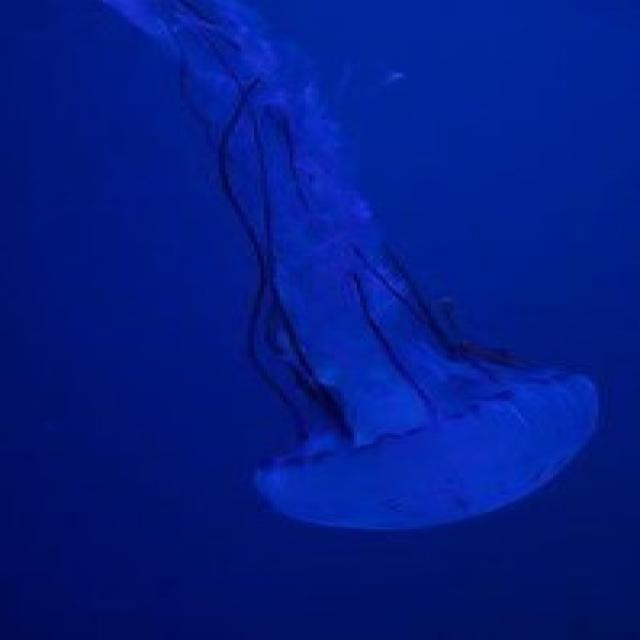Jellyfish: (190, 3, 610, 559)
